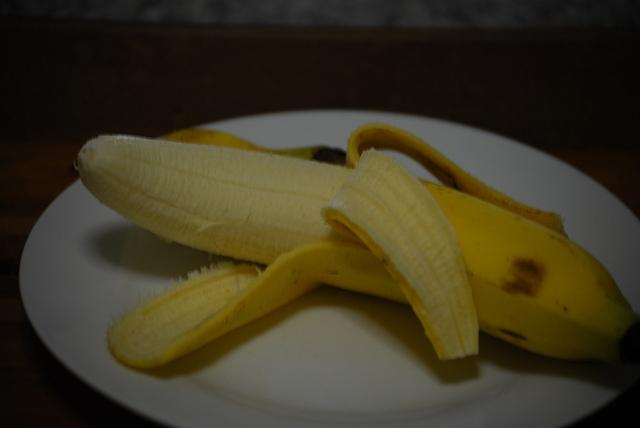banana: (75, 119, 640, 368)
